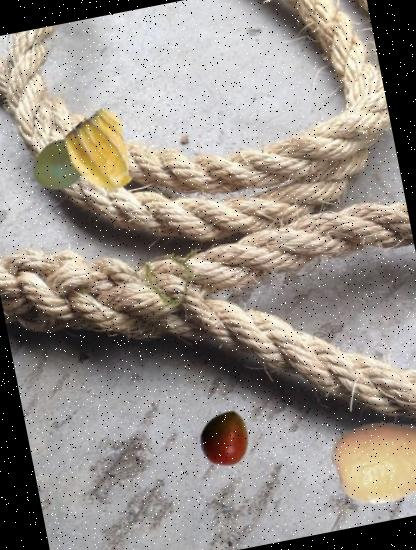Grape: (26, 132, 93, 198)
Kumquats: (323, 396, 416, 524)
Mango: (192, 404, 260, 471)
Physalis: (60, 105, 152, 198)
